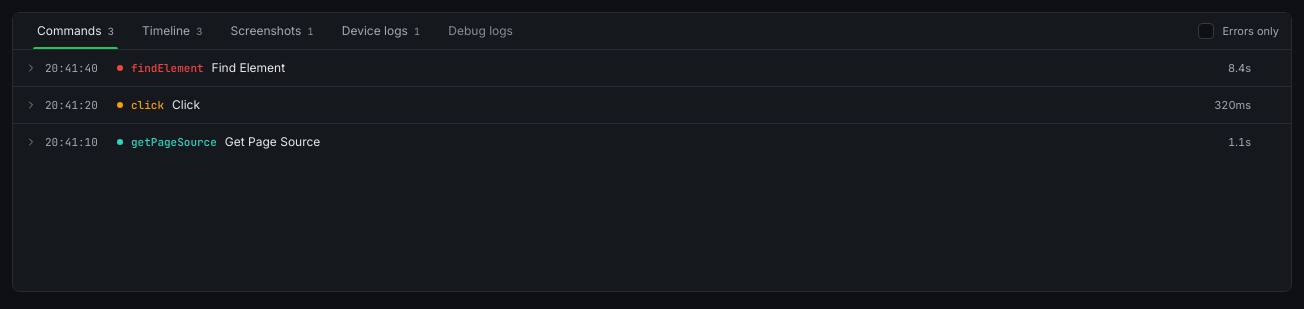
Test: LogViewer › shows a device log line by its text, and all of it when opened
The width and height of the screenshot is (1304, 309).
Click the button "Device logs 1" at (381, 31), box [330,13,432,49]
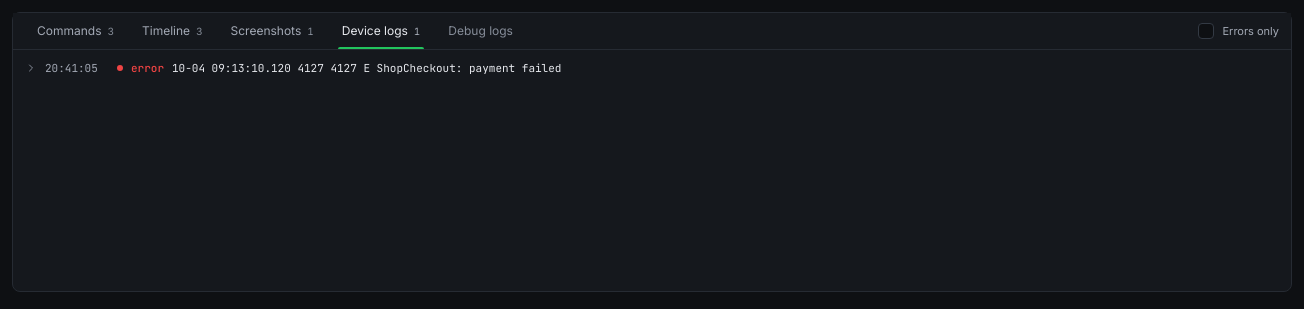
Expected: the text "at Pay.run" is not shown
Result: the button "E ShopCheckout: payment failed" shows "error"
Click the button "E ShopCheckout: payment failed" at (71, 68), box [13,50,1291,86]
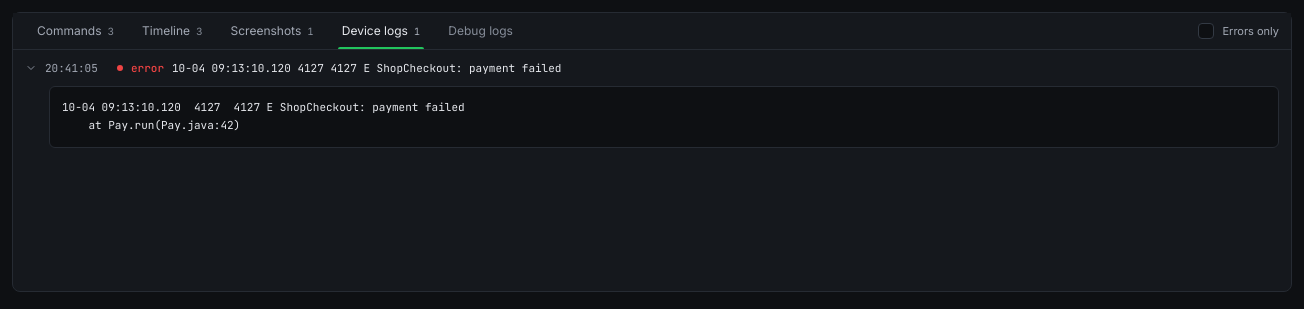
Result: the text "at Pay.run(Pay.java:42)" is shown at [62,100,465,132]
